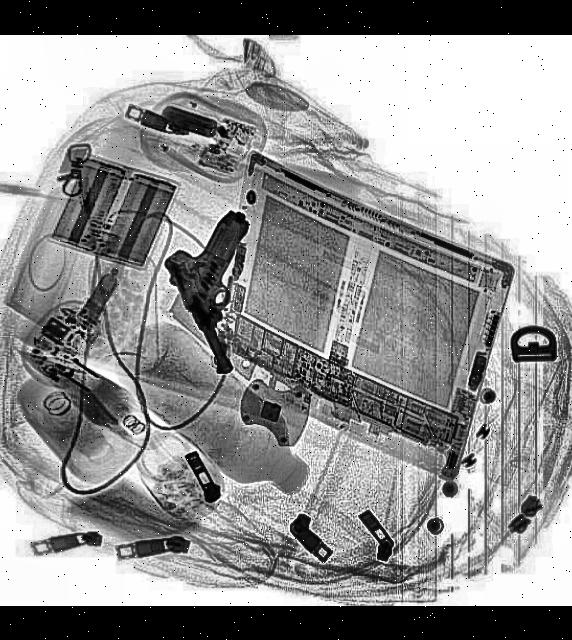Gun: (154, 206, 298, 380)
